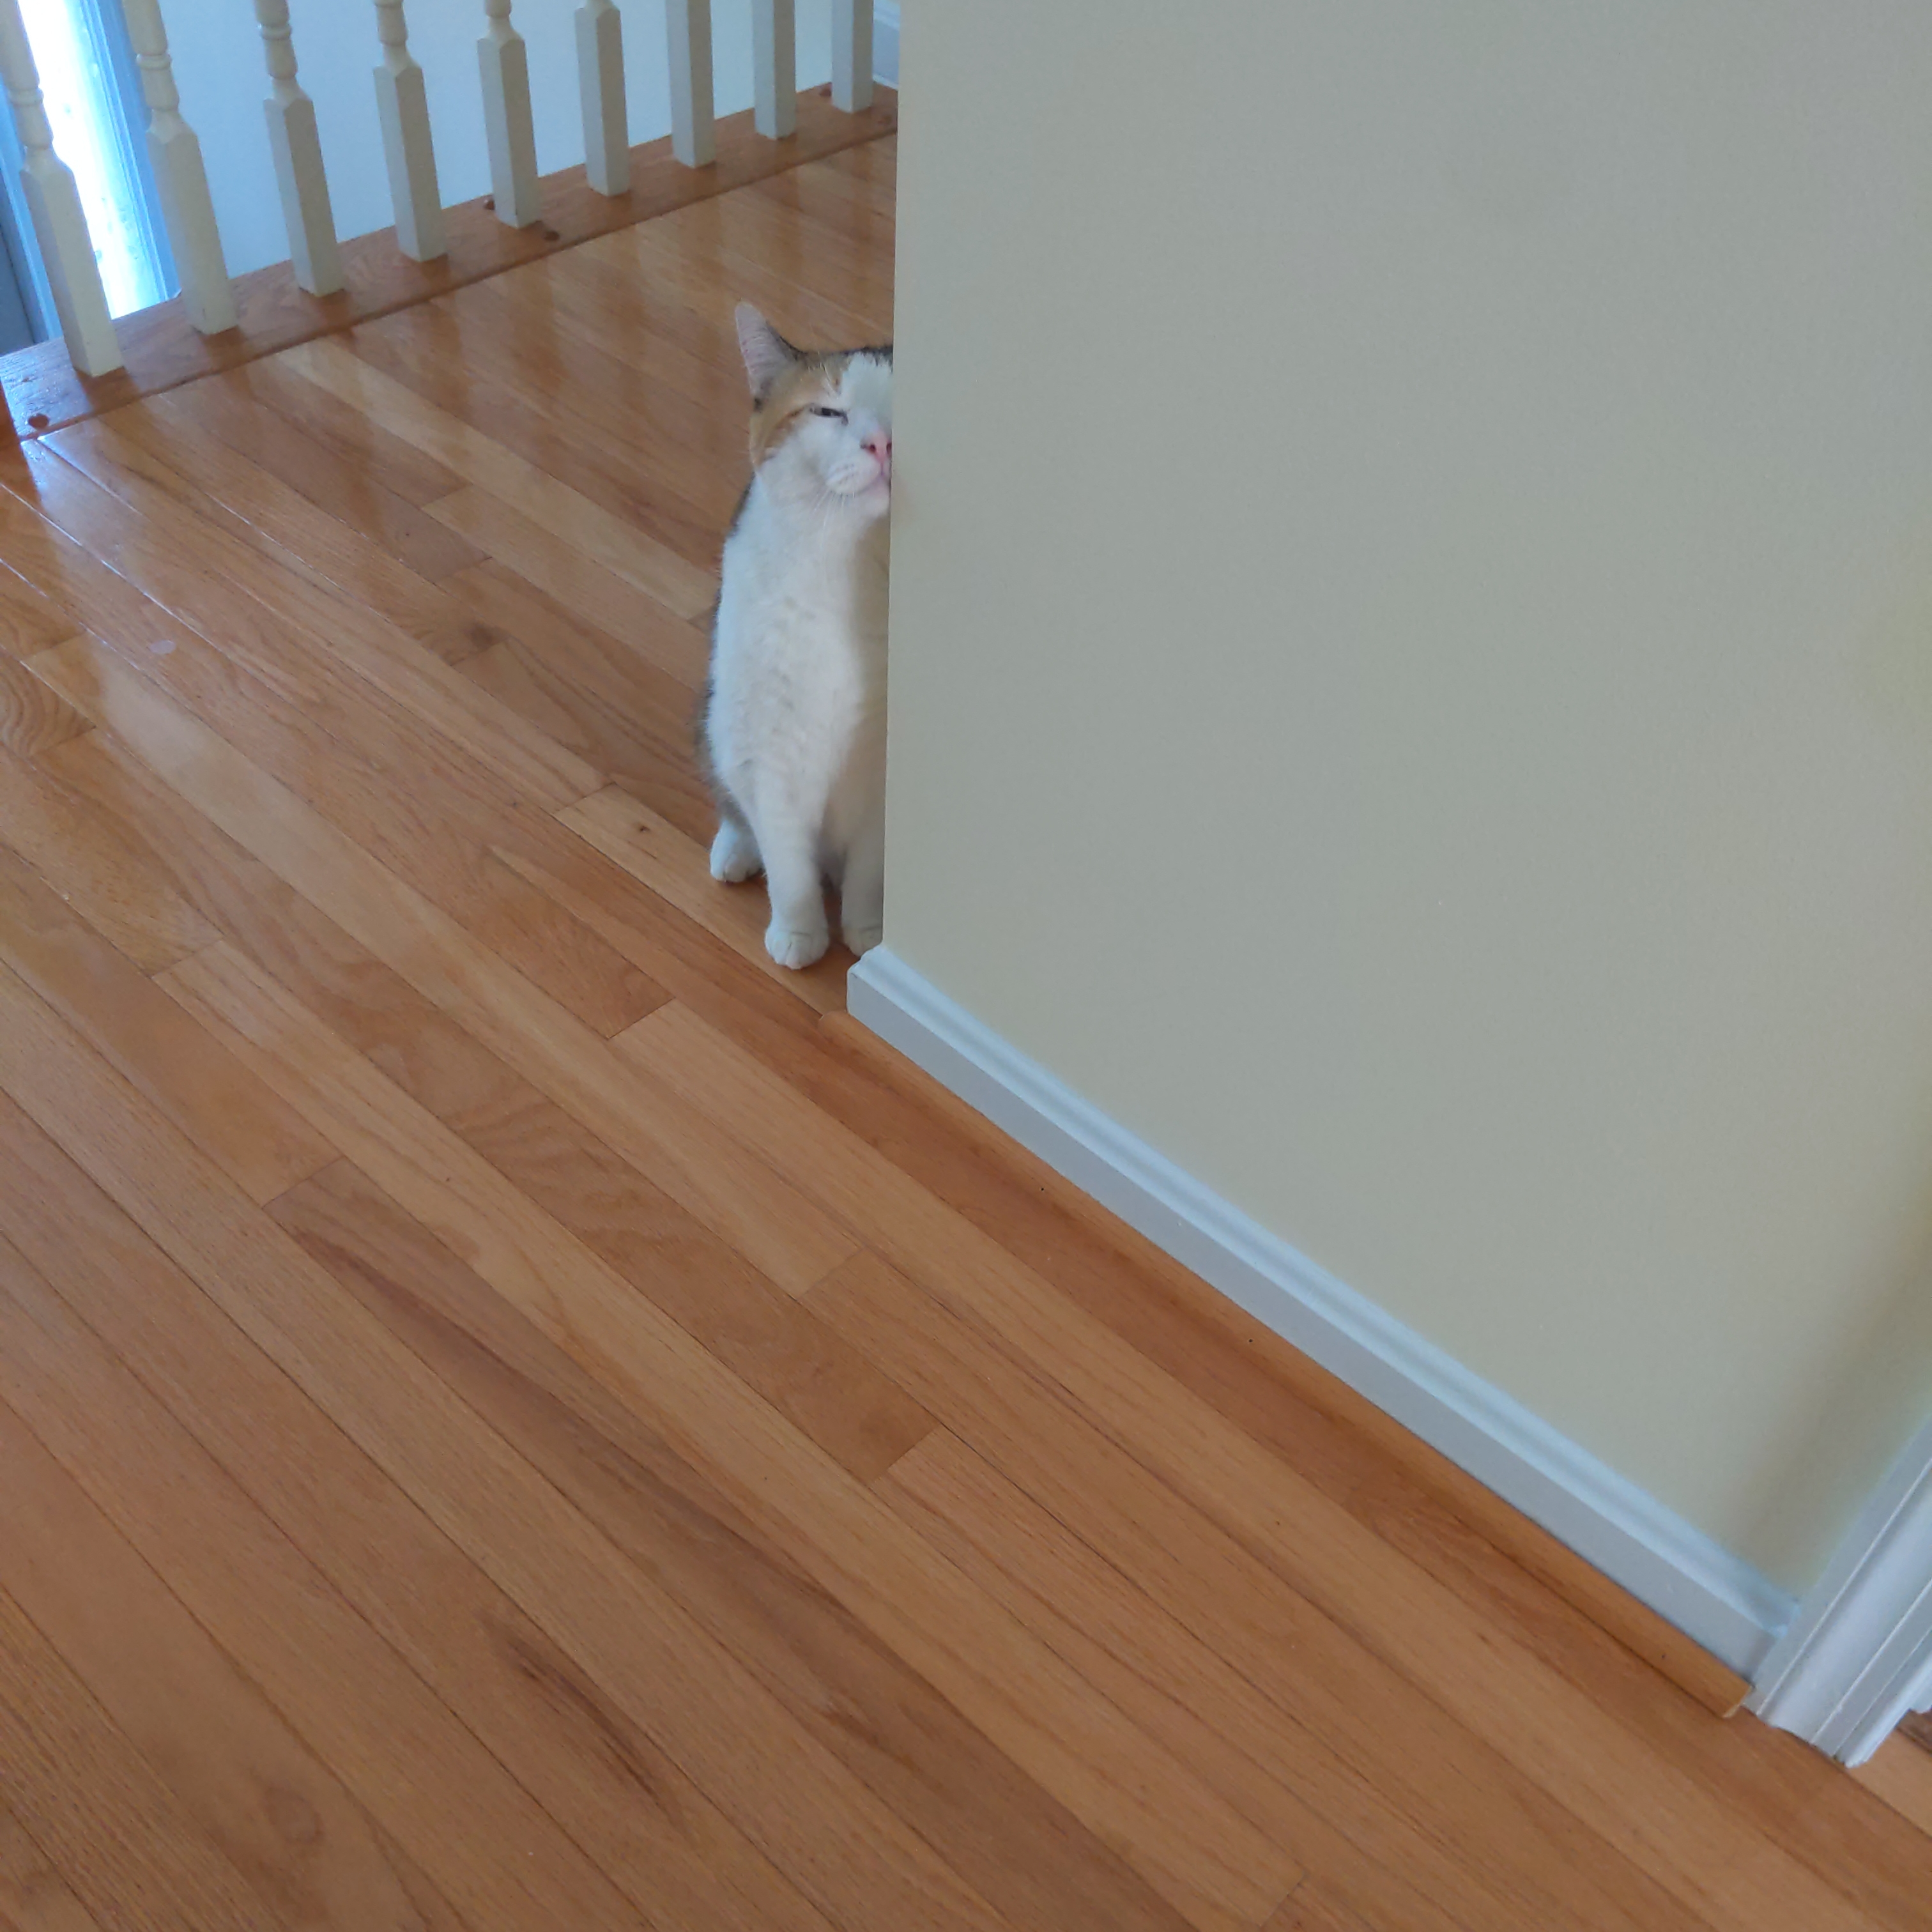Calico: (695, 299, 895, 971)
